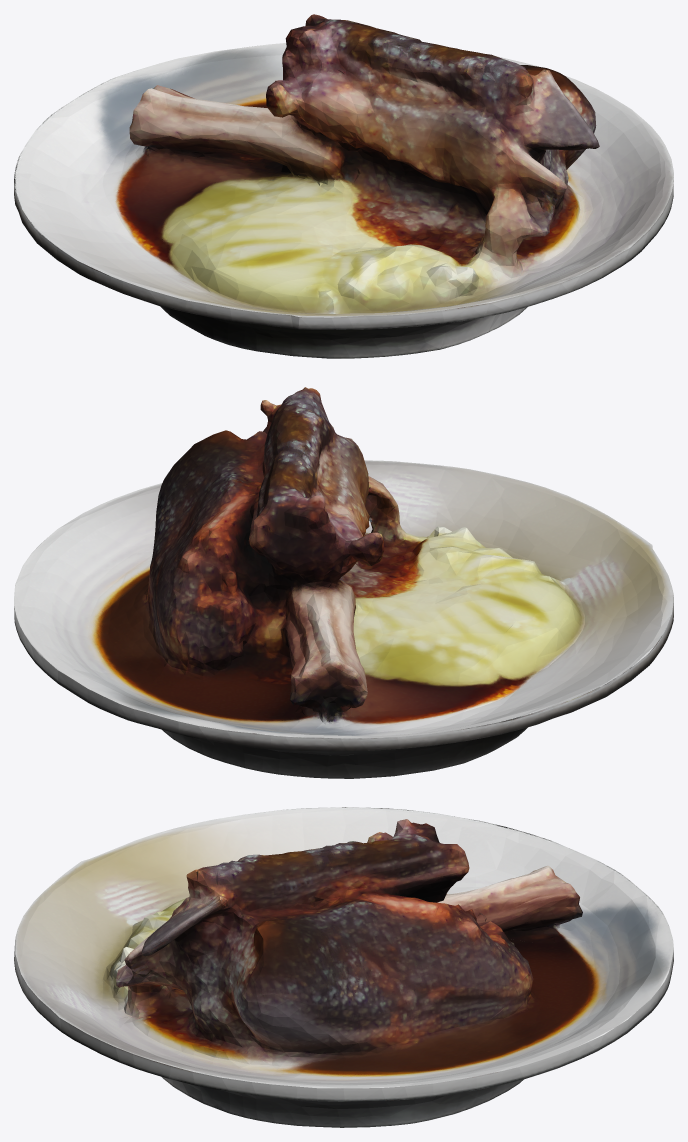
File: Slow Cooked Short Ribs.glb
The picture shows the model from 3 angles, top to bottom: view 1: azimuth 30°, elevation 25°; view 2: azimuth 150°, elevation 25°; view 3: azimuth 270°, elevation 25°; orthographic projection.
Parts seen in each view (by area): view 1: world; view 2: world; view 3: world.
Part boxes in pixels (box(x1,y1,x2,y2)): world: box(14, 14, 673, 358); world: box(14, 387, 673, 778); world: box(14, 807, 673, 1127).
Size of the model in its own units: 0.7344 by 0.2792 by 0.7331.
Materials: 1 (1 with a texture image).
